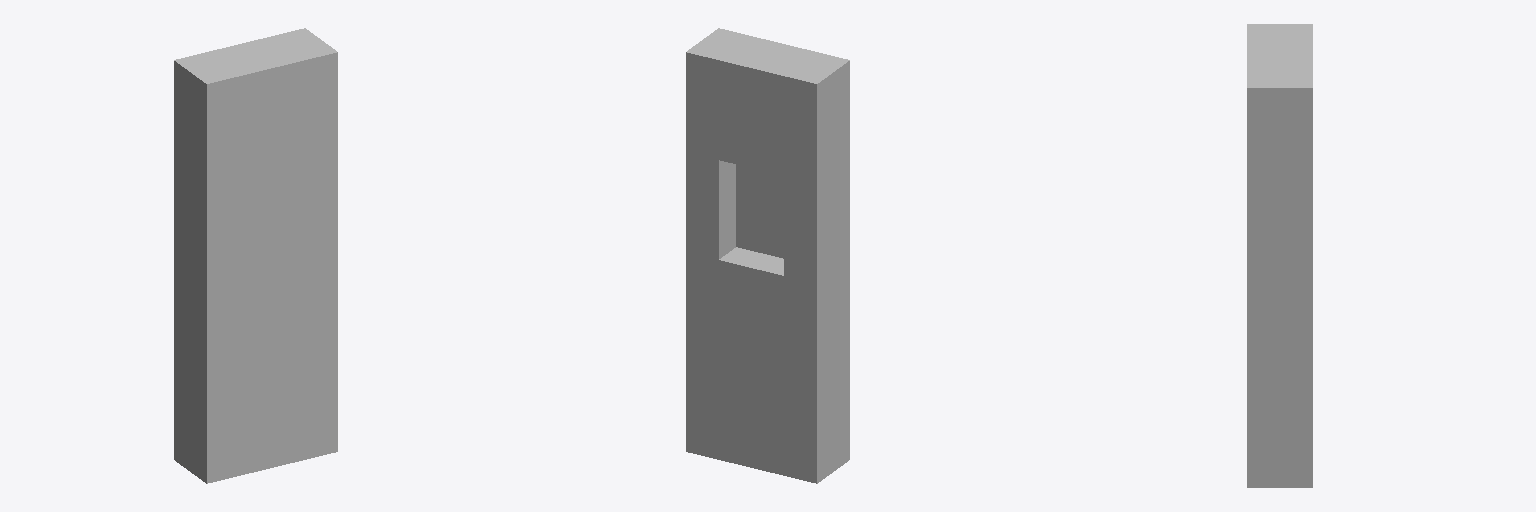
File: column.obj
3 views of the same model, side by side, from view 1: azimuth 30°, elevation 25°; view 2: azimuth 150°, elevation 25°; view 3: azimuth 270°, elevation 25° (orthographic).
Parts seen in each view (by area): view 1: Cube; view 2: Cube; view 3: Cube.
Part boxes in pixels (x1,y1,x2,y2): Cube: (174, 28, 337, 483); Cube: (686, 28, 849, 483); Cube: (1247, 24, 1312, 487).
Bounding box in the file's own units: 0.364 × 1.06 × 0.1578.